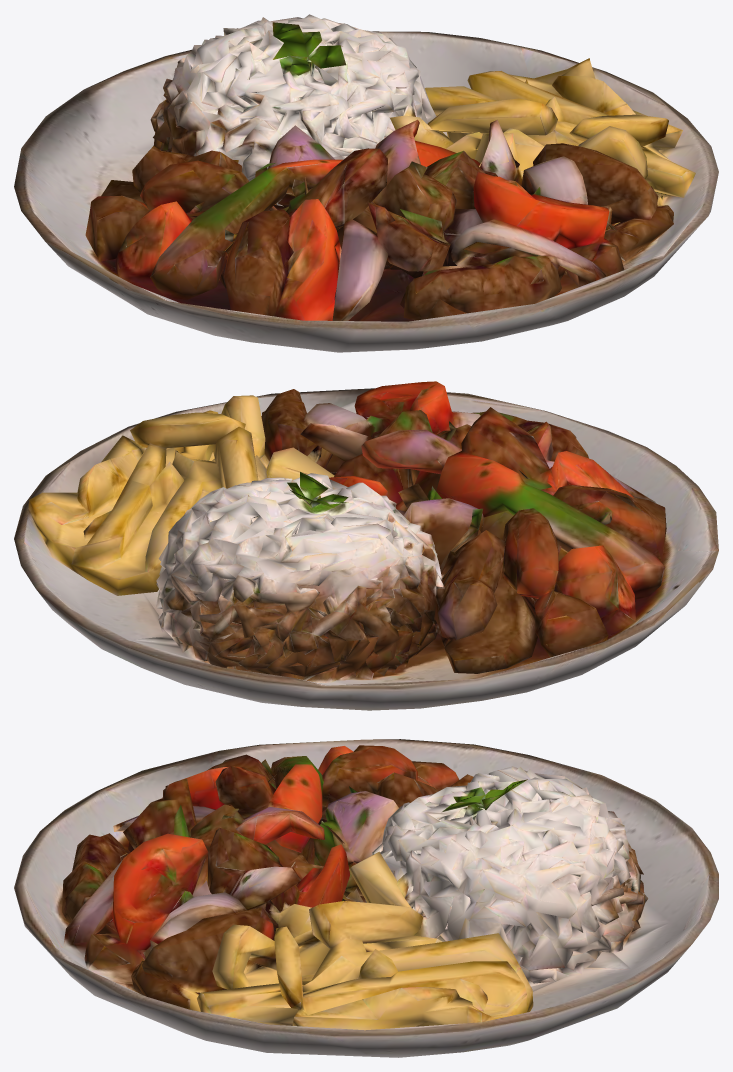
The model's file is lomo-saltado.glb.
The picture shows the model from 3 angles, top to bottom: view 1: azimuth 30°, elevation 25°; view 2: azimuth 150°, elevation 25°; view 3: azimuth 270°, elevation 25°; orthographic projection.
Parts seen in each view (by area): view 1: Mesh_0; view 2: Mesh_0; view 3: Mesh_0.
Part boxes in pixels (x1,y1,x2,y2): Mesh_0: (14, 14, 718, 352); Mesh_0: (14, 381, 718, 710); Mesh_0: (14, 739, 718, 1057).
Bounding box in the file's own units: 0.9467 × 0.2699 × 0.9498.
1 material, 1 textured.
